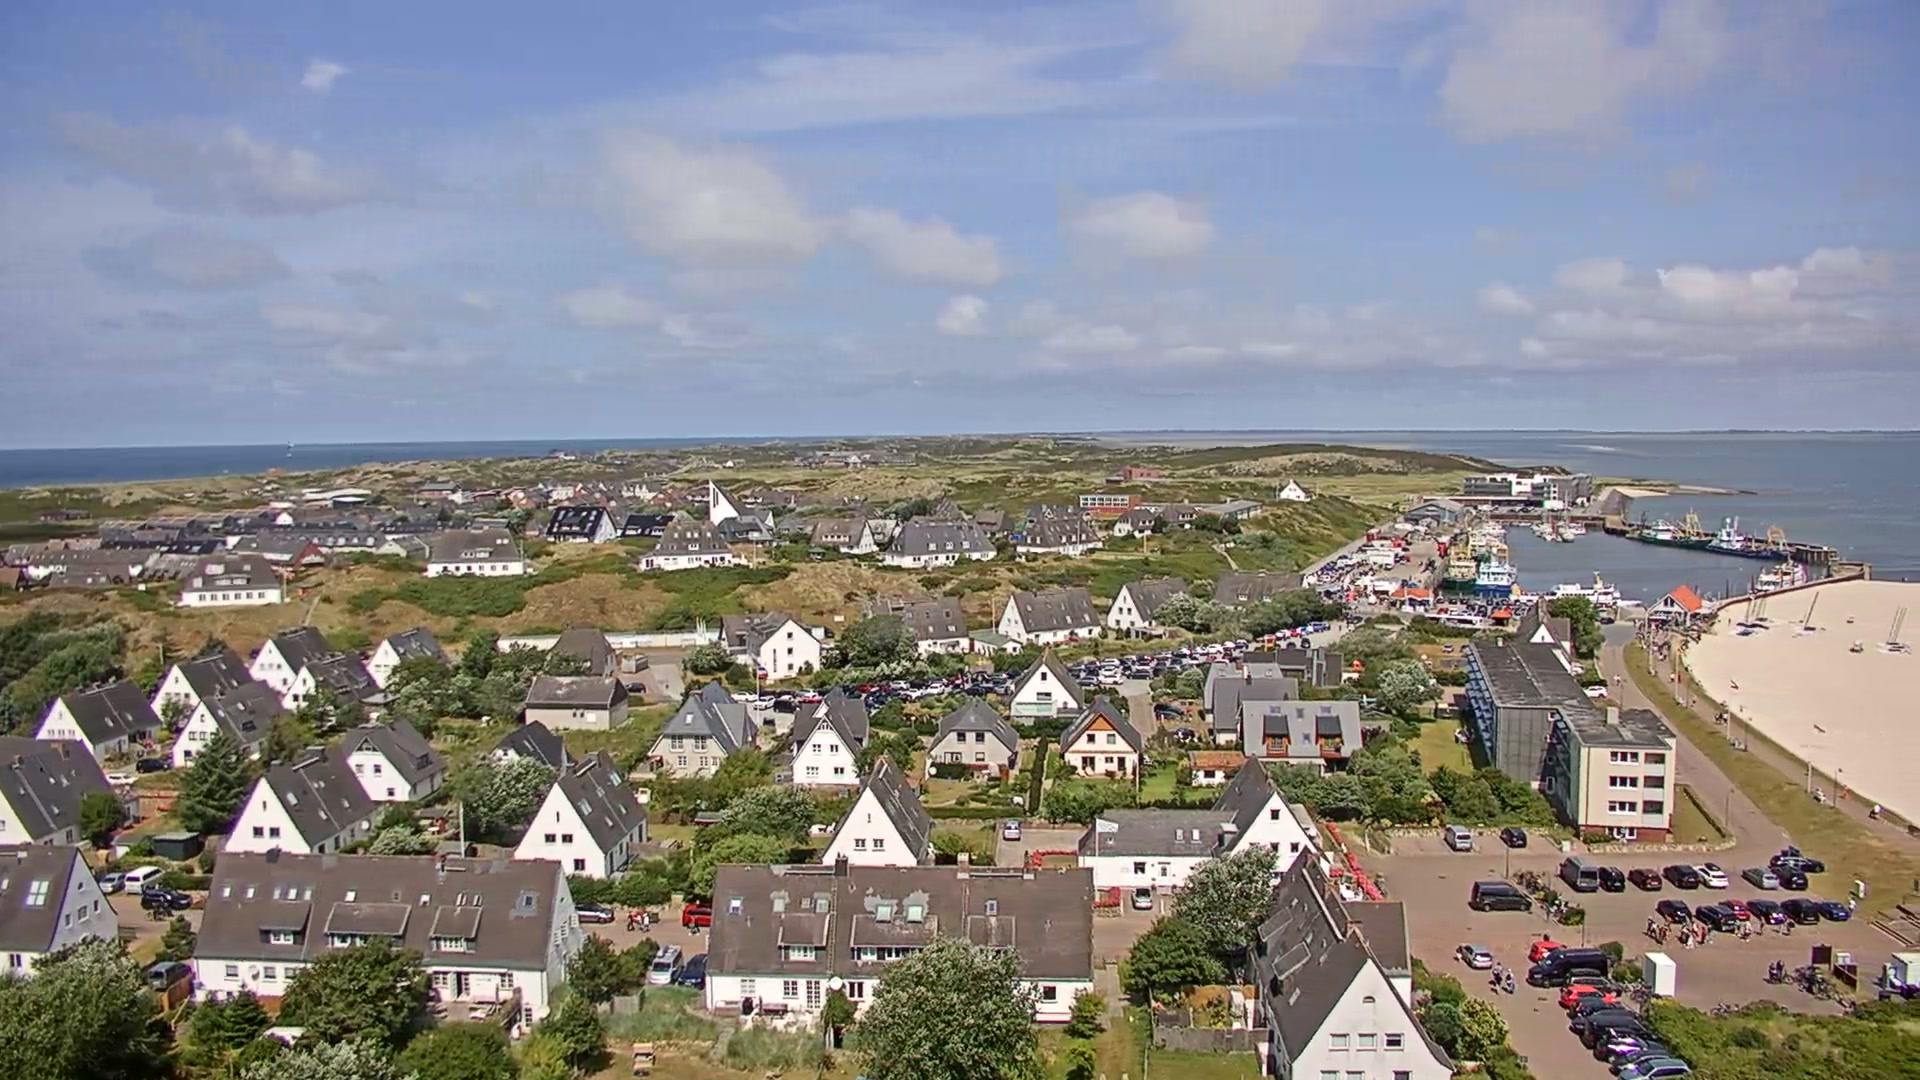human: (1489, 961, 1504, 994), (633, 910, 649, 932), (1505, 966, 1515, 993), (686, 912, 698, 935), (1768, 961, 1779, 982), (625, 910, 634, 931), (1849, 897, 1857, 919), (1871, 802, 1880, 820), (1744, 920, 1752, 942), (1758, 915, 1766, 936), (1650, 921, 1658, 938), (1776, 961, 1784, 979), (1455, 945, 1463, 962), (1614, 673, 1622, 686), (1714, 712, 1719, 723), (1723, 711, 1728, 723), (1719, 712, 1723, 723), (1727, 616, 1732, 625), (1632, 617, 1637, 627), (1338, 624, 1342, 631), (1902, 576, 1905, 584), (641, 910, 642, 931)
land: (1582, 1014, 1658, 1052), (1527, 947, 1600, 987), (1595, 1028, 1666, 1064), (1468, 880, 1532, 912), (1569, 1009, 1641, 1035), (1618, 1057, 1692, 1080), (1558, 854, 1599, 891), (647, 943, 683, 985), (146, 961, 192, 990), (123, 865, 167, 894), (1568, 997, 1626, 1019), (1611, 1049, 1667, 1071), (1567, 974, 1624, 996), (678, 952, 709, 989), (1694, 904, 1737, 931), (1780, 897, 1820, 924), (140, 889, 191, 910), (1745, 898, 1786, 923), (1691, 861, 1729, 888), (1768, 863, 1807, 888), (1662, 863, 1700, 888), (1768, 854, 1824, 872), (574, 902, 614, 924), (1559, 984, 1599, 1006), (1459, 944, 1494, 969), (1656, 898, 1691, 923), (1443, 824, 1473, 852), (1740, 866, 1778, 889), (681, 903, 713, 927), (1628, 866, 1662, 890), (1716, 898, 1750, 920), (1599, 864, 1626, 893), (1529, 941, 1569, 960), (620, 651, 649, 674), (1498, 826, 1527, 848), (1819, 901, 1850, 920), (97, 871, 126, 893), (1581, 1017, 1600, 1048), (136, 757, 171, 773), (1565, 966, 1600, 983), (1132, 887, 1153, 910), (104, 772, 138, 785), (1154, 703, 1184, 717), (1003, 819, 1021, 841), (773, 700, 799, 714), (1126, 667, 1153, 680), (751, 695, 776, 710), (730, 690, 759, 702), (798, 692, 824, 704), (1171, 727, 1194, 740), (623, 682, 646, 694), (909, 677, 932, 689), (1075, 675, 1098, 687), (963, 686, 986, 697), (1157, 710, 1183, 720), (887, 679, 909, 691), (1099, 657, 1121, 667), (925, 683, 944, 695), (994, 683, 1014, 695), (774, 687, 795, 697), (858, 682, 878, 692), (753, 666, 769, 679), (1100, 665, 1117, 676), (1582, 684, 1600, 696), (1099, 676, 1124, 685), (757, 687, 775, 697), (845, 689, 864, 699), (990, 672, 1009, 683), (1164, 665, 1183, 675), (816, 683, 833, 694), (896, 692, 913, 703), (797, 688, 819, 696), (775, 694, 796, 701), (1206, 643, 1223, 654), (1119, 654, 1136, 664), (1220, 641, 1236, 651), (1173, 647, 1191, 657), (1234, 640, 1249, 650), (1137, 653, 1153, 662), (1120, 664, 1131, 676), (1311, 621, 1324, 632), (1275, 629, 1290, 638), (906, 688, 921, 697), (1154, 650, 1173, 657), (1301, 637, 1311, 649), (1442, 643, 1454, 653), (1601, 617, 1614, 625), (1367, 595, 1377, 605), (1296, 625, 1307, 634), (1477, 604, 1486, 615), (1221, 646, 1232, 656), (1525, 598, 1534, 606), (1437, 607, 1448, 614), (1171, 657, 1182, 664), (1422, 598, 1431, 605), (1323, 622, 1331, 630), (1306, 625, 1314, 633), (1401, 578, 1408, 585), (1435, 596, 1444, 603), (1449, 608, 1459, 615), (1461, 596, 1470, 603), (1466, 603, 1474, 609), (1486, 597, 1494, 604), (1461, 609, 1470, 615), (1408, 581, 1417, 587), (1514, 598, 1521, 604), (1449, 597, 1457, 603)
sea: (1704, 514, 1803, 556), (1509, 569, 1600, 605), (1639, 505, 1715, 549), (1753, 552, 1807, 594), (1472, 564, 1515, 599), (1601, 579, 1643, 610), (1441, 560, 1477, 590), (1559, 490, 1577, 543)
